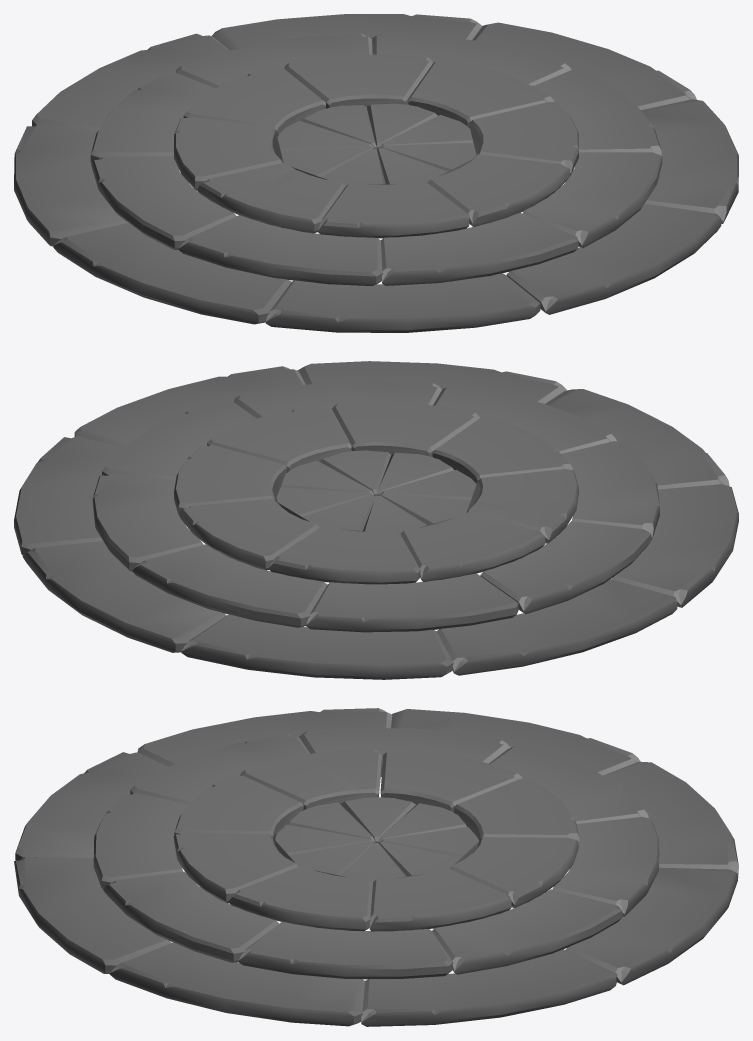
Rendered from Spawn.fbx.
3 views of the same model, one above another, from view 1: azimuth 30°, elevation 25°; view 2: azimuth 150°, elevation 25°; view 3: azimuth 270°, elevation 25° (orthographic).
Visible parts, largest first — view 1: Cube.017; view 2: Cube.017; view 3: Cube.017.
Part boxes in pixels (box(x1,y1,x2,y2)): Cube.017: box(14, 14, 738, 332); Cube.017: box(14, 361, 738, 679); Cube.017: box(14, 708, 738, 1026).
Size of the model in its own units: 212 by 212 by 13.3.
